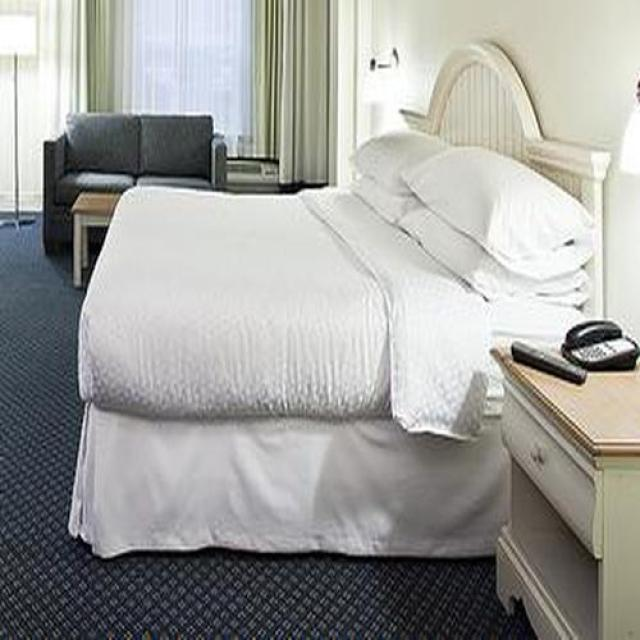bed: (68, 44, 613, 562)
sofa: (42, 113, 227, 255)
table: (495, 346, 640, 640)
